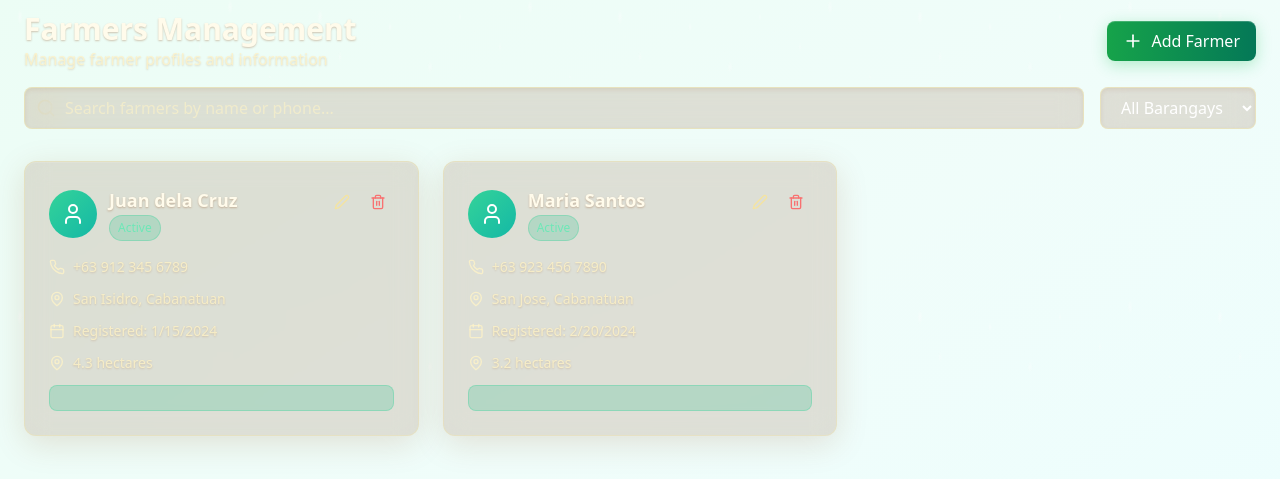
Test case: FarmersManager › Search and Filter › filters farmers by barangay
The image size is (1280, 479).
Select "San Jose" in the dropdown showing "All Barangays" at (1178, 108), box x1=1100 y1=87 x2=1256 y2=129
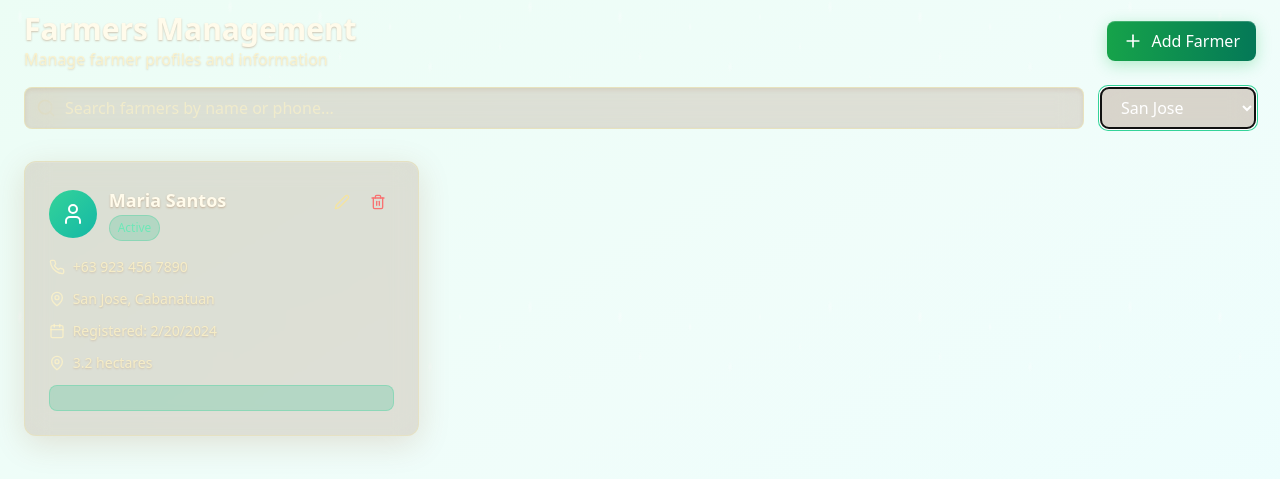
Expected: the heading "Maria Santos" is shown, x1=109 y1=186 x2=227 y2=214
Expected: the heading "Juan dela Cruz" is gone
